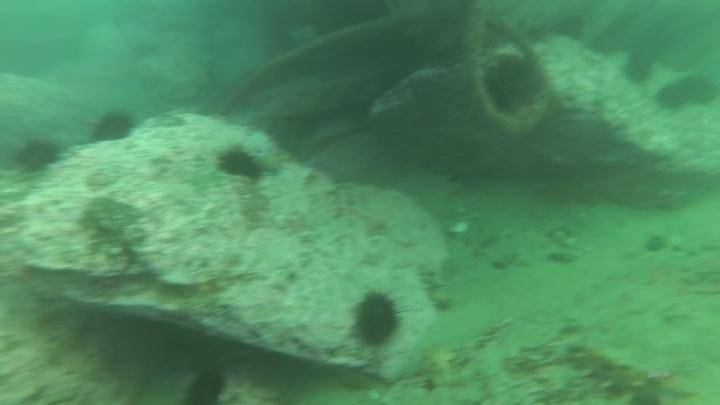echinus: (479, 49, 545, 117), (350, 288, 406, 350), (12, 135, 64, 176), (87, 107, 138, 147), (215, 144, 266, 183), (183, 366, 230, 405), (676, 72, 719, 110), (653, 78, 693, 114), (620, 51, 657, 87)
holothurian: (562, 339, 667, 405), (415, 257, 456, 315)
starfish: (254, 147, 290, 178)
